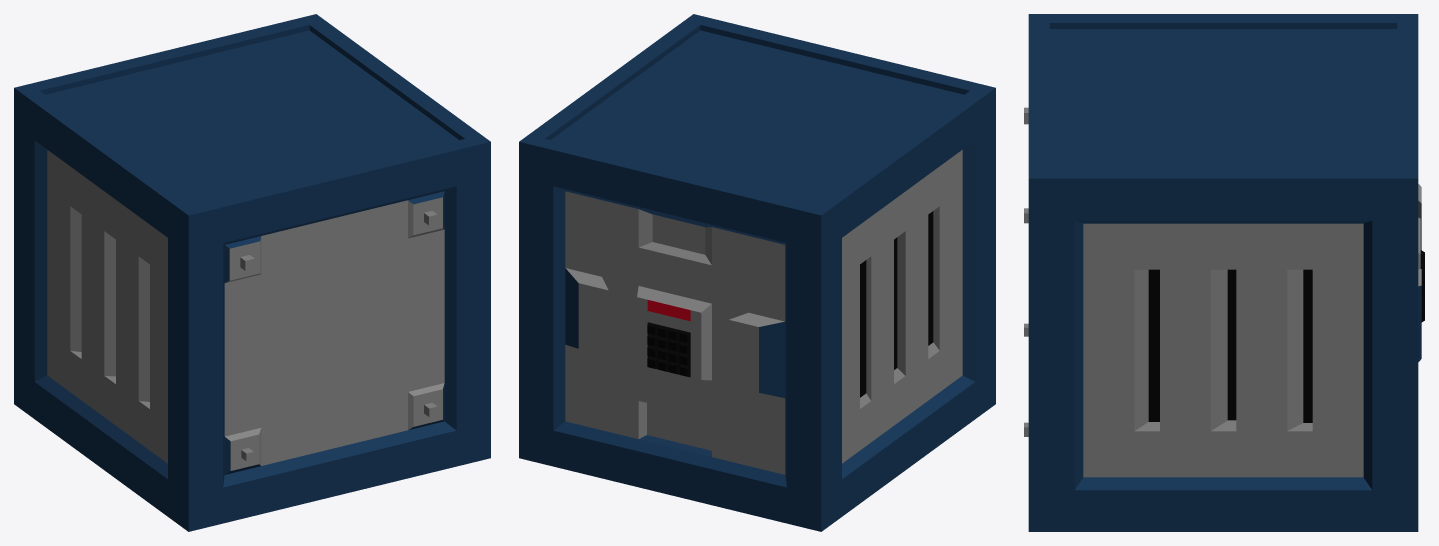
3 views of the same model, side by side, from view 1: azimuth 30°, elevation 25°; view 2: azimuth 150°, elevation 25°; view 3: azimuth 270°, elevation 25° (orthographic). The views are drawn at different scales.
Parts seen in each view (by area): view 1: Cube; view 2: Cube; view 3: Cube.
Part boxes in pixels (x1=…): Cube: x1=14, y1=14, x2=490, y2=531; Cube: x1=519, y1=14, x2=995, y2=531; Cube: x1=1024, y1=14, x2=1424, y2=531.
Bounding box in the file's own units: 200 × 200 × 206.
